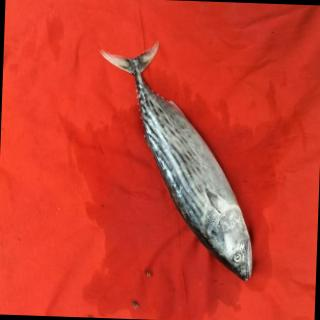Ikan: (92, 42, 274, 289)
